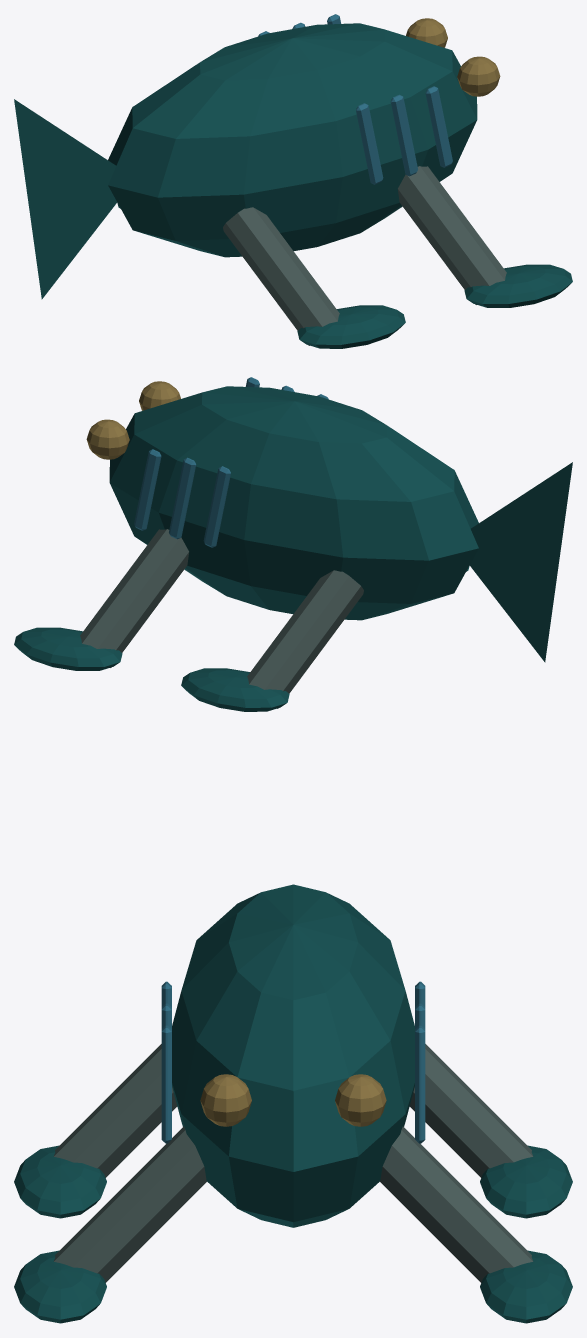
The model's file is SM_MP_Icegill.fbx.
The picture shows the model from 3 angles, top to bottom: view 1: azimuth 30°, elevation 25°; view 2: azimuth 150°, elevation 25°; view 3: azimuth 270°, elevation 25°; orthographic projection. The views are drawn at different scales.
Parts seen in each view (by area): view 1: SM_MP_Icegill; view 2: SM_MP_Icegill; view 3: SM_MP_Icegill.
Part boxes in pixels (<box>): SM_MP_Icegill: <box>14,14,572,348</box>; SM_MP_Icegill: <box>14,377,572,711</box>; SM_MP_Icegill: <box>14,884,572,1323</box>.
Bounding box in the file's own units: 134 × 108 × 66.17.
Materials: 1 (1 with a texture image).
